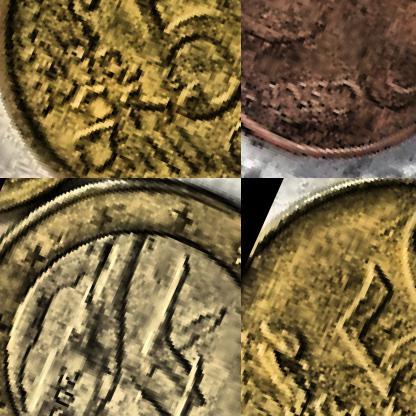coin: (0, 178, 240, 415), (0, 0, 240, 177), (241, 178, 415, 415), (241, 0, 415, 177)
